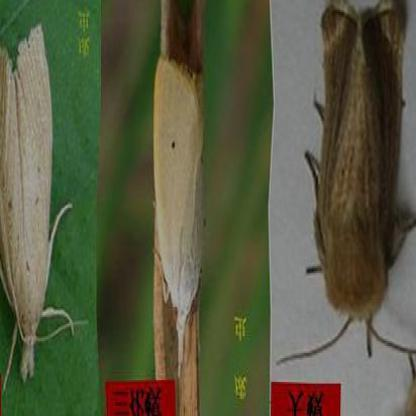stem-borer: (304, 0, 416, 363), (0, 23, 84, 394), (150, 54, 206, 374)
